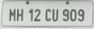character: (8, 7, 16, 21), (16, 7, 24, 21), (33, 8, 41, 22), (51, 8, 59, 22), (62, 8, 69, 22), (44, 8, 51, 21), (70, 8, 77, 21), (77, 8, 84, 21), (28, 8, 34, 21)
